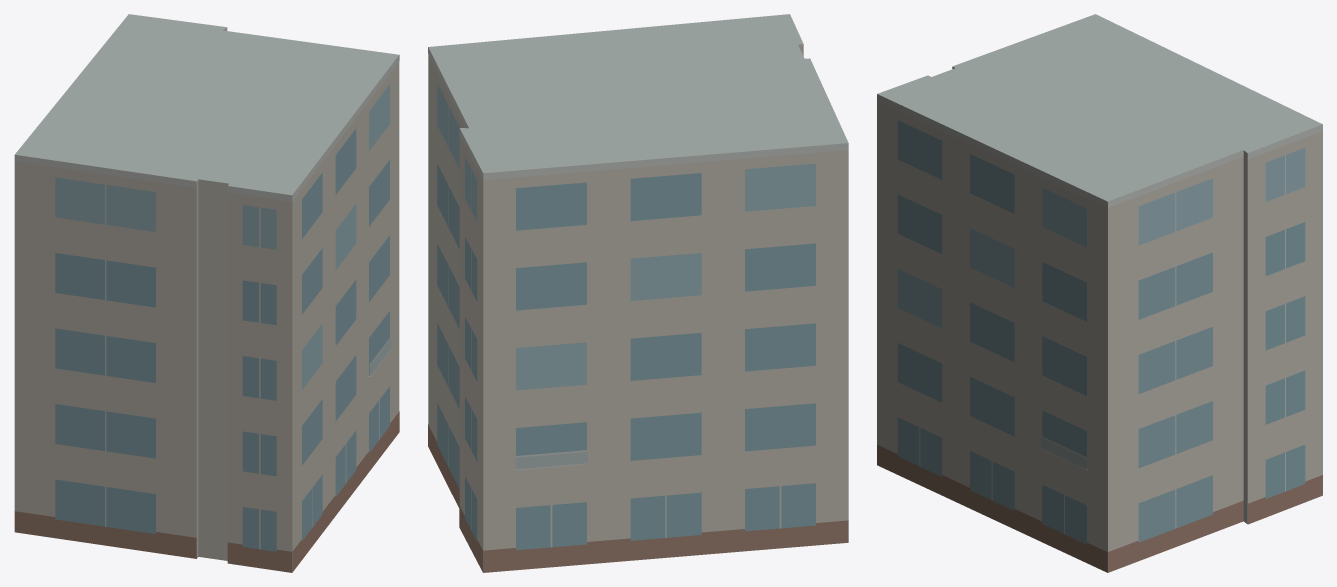
Rendered from survey-upis-32946178.glb.
The picture shows the model from 3 angles, left to right: view 1: azimuth 30°, elevation 25°; view 2: azimuth 150°, elevation 25°; view 3: azimuth 270°, elevation 25°; orthographic projection. The views are drawn at different scales.
Parts seen in each view (by area): view 1: survey-upis-32946178.tmp; view 2: survey-upis-32946178.tmp; view 3: survey-upis-32946178.tmp.
Part boxes in pixels (box(x1,y1,x2,y2)): survey-upis-32946178.tmp: box(14, 14, 399, 572); survey-upis-32946178.tmp: box(428, 14, 848, 572); survey-upis-32946178.tmp: box(877, 14, 1322, 572).
Size of the model in its own units: 15.07 by 13.9 by 15.13.
